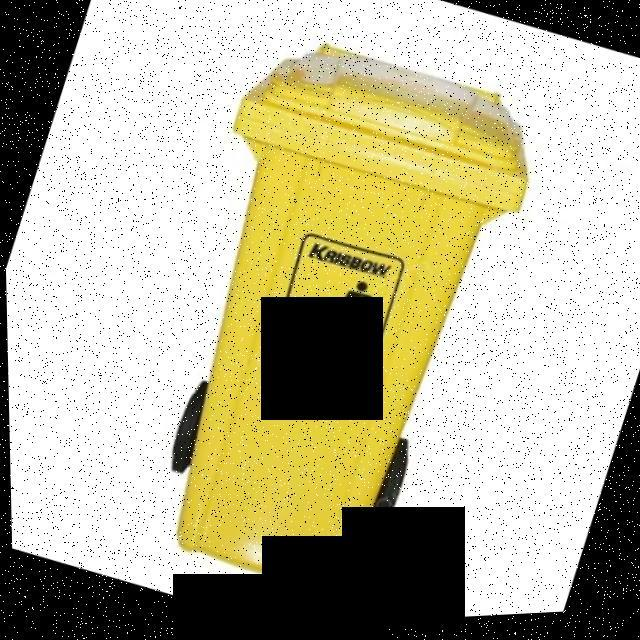bin: (64, 0, 586, 637)
